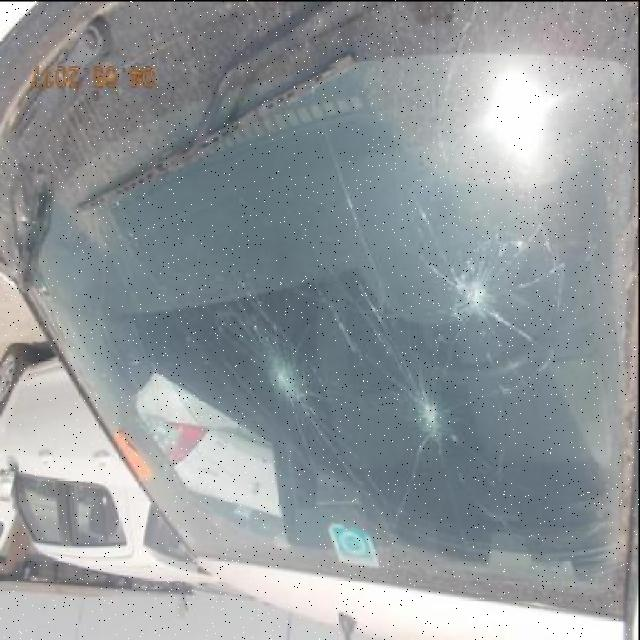damage: (436, 249, 522, 353), (134, 402, 186, 457), (265, 346, 310, 402), (414, 395, 449, 443)
